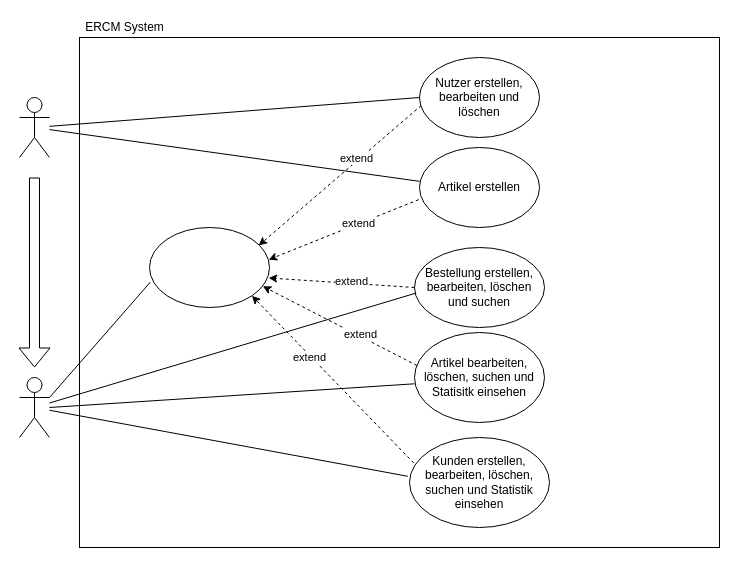
Some shapes in this 737 by 565 pixel diagram are drawn without their labels. The centre of each missing label's shape, as x and y in pixels:
Admin: [34,127]
Anmelden: [209,267]
User: [34,407]
